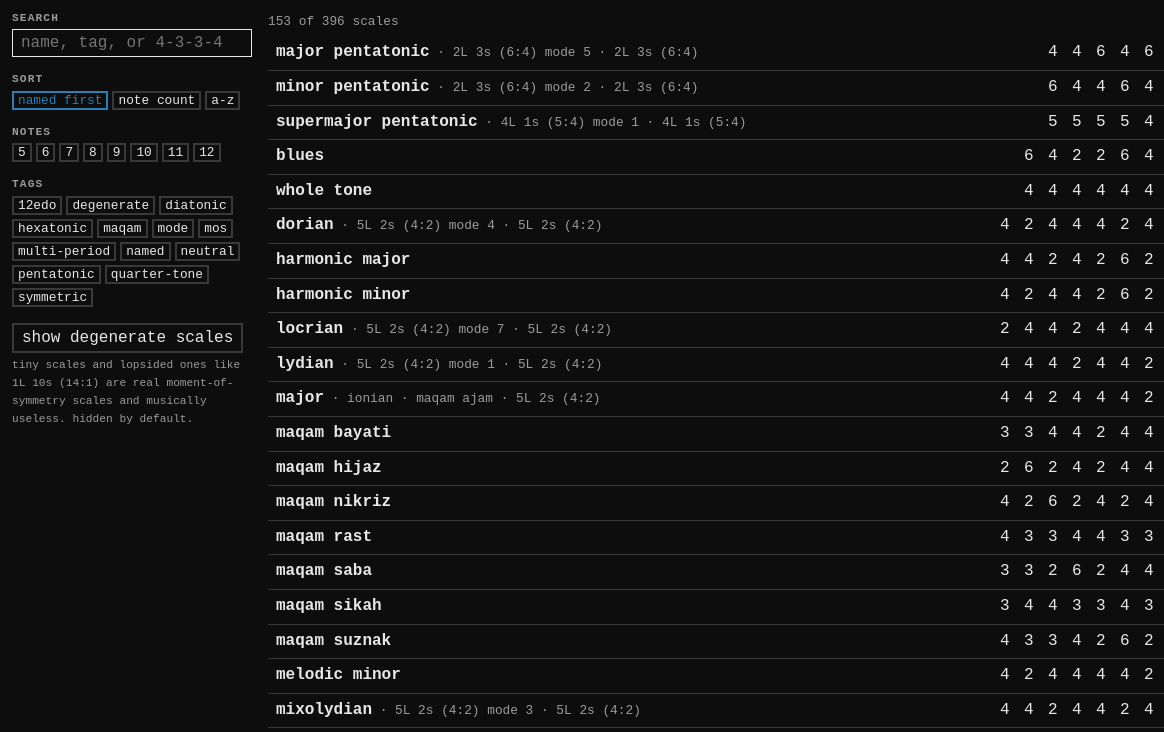
Test: scale list › shows an empty state when nothing matches
Type "zzzznope" into the field named "search scales" at (132, 43), box [12,29,252,57]
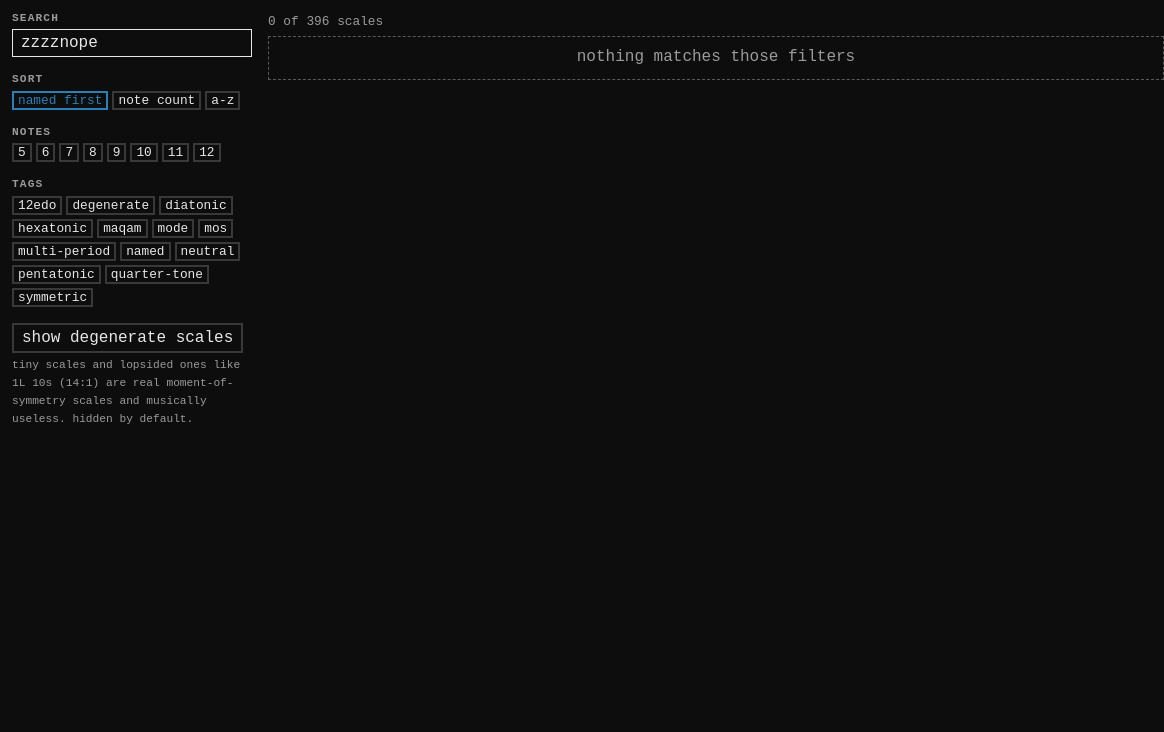
Result: the text "nothing matches those filters" is shown at [268,36,1163,80]
Result: no links are shown
